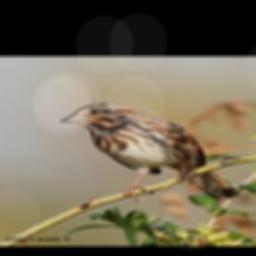Sparrow: (60, 102, 242, 205)
